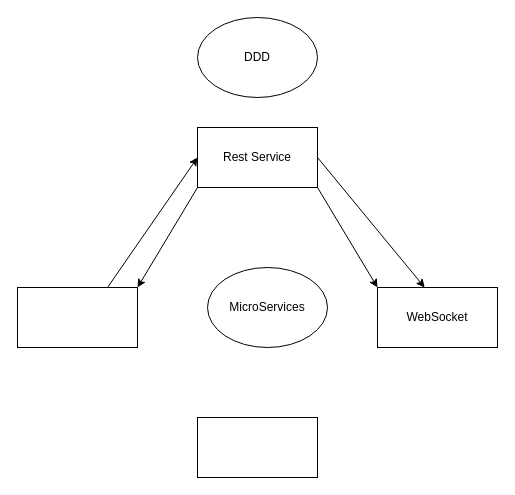
This 515x495 diagram has some shape labels left out. The shapes that lost their labels are listed below. From the top down, each one's box as (x1, y1, x2, y2) in pixels, then its label:
(16, 286, 138, 348): GraphQL
(196, 416, 318, 478): GPR
